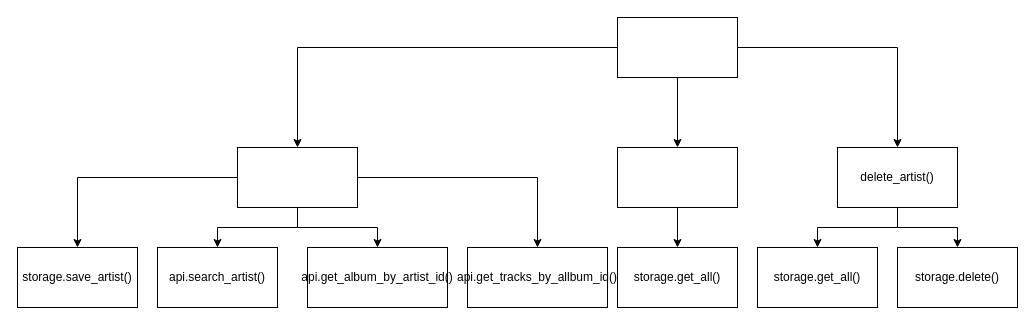
This 1035x325 diagram has some shape labels left out. Each missing label, with the centre of its shape:
"Menu" belongs at point (677, 47).
"search_artists()" belongs at point (297, 177).
"show_artists()" belongs at point (677, 177).
